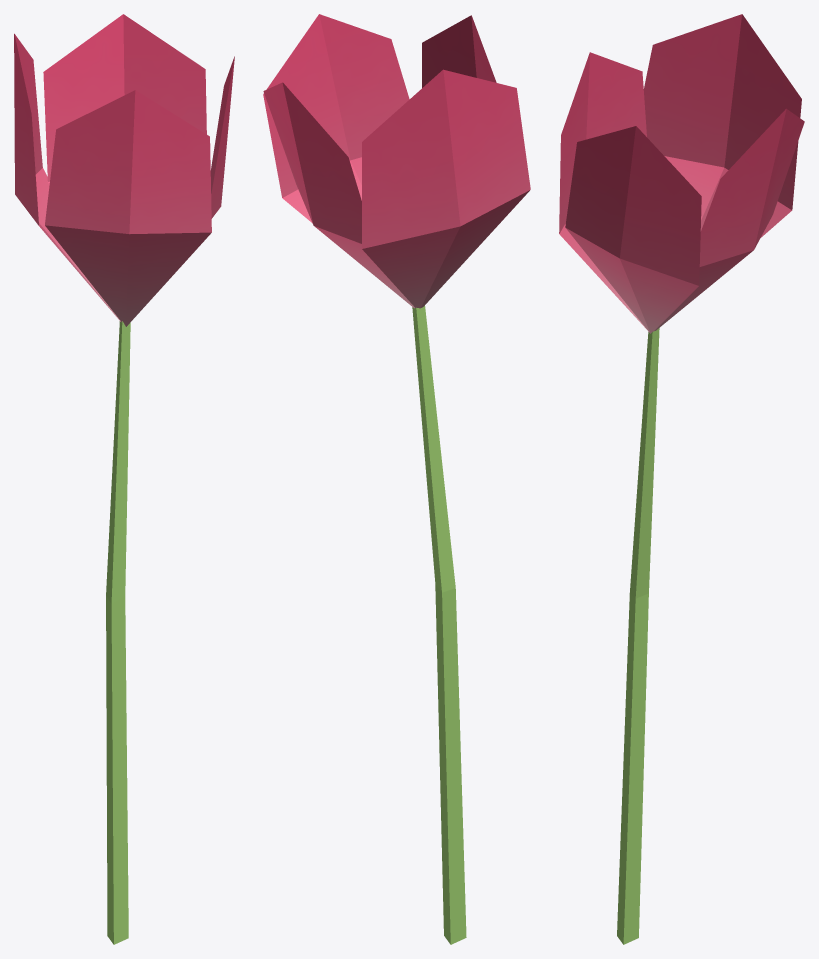
The model's file is Flower_f_TwoS_03.fbx.
3 renders of one model, left to right at view 1: azimuth 30°, elevation 25°; view 2: azimuth 150°, elevation 25°; view 3: azimuth 270°, elevation 25°, orthographic. The views are drawn at different scales.
Parts seen in each view (by area): view 1: Flower_f_TwoS_03; view 2: Flower_f_TwoS_03; view 3: Flower_f_TwoS_03.
Part boxes in pixels (box(x1,y1,x2,y2)): Flower_f_TwoS_03: box(14, 14, 234, 944); Flower_f_TwoS_03: box(263, 14, 530, 944); Flower_f_TwoS_03: box(559, 14, 804, 944).
Bounding box in the file's own units: 0.1369 × 0.5221 × 0.1289.
